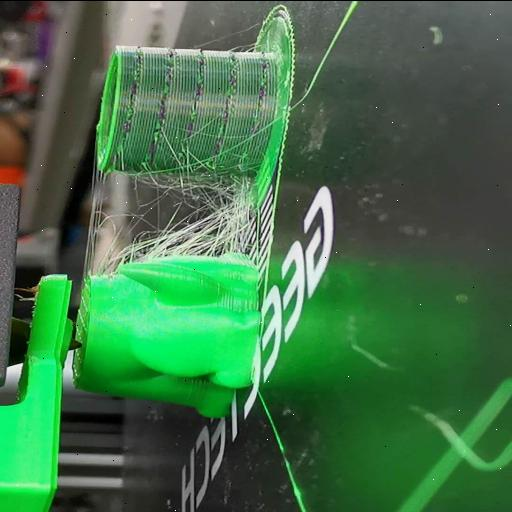stringing: (84, 168, 253, 272)
